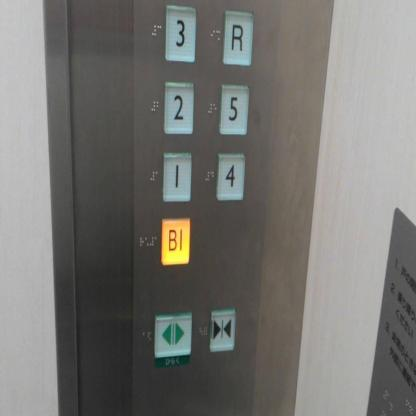1: (161, 149, 193, 203)
2: (162, 78, 195, 136)
3: (164, 0, 197, 66)
4: (215, 150, 246, 203)
5: (218, 81, 250, 137)
B1: (159, 213, 191, 267)
R: (221, 6, 254, 68)
close: (208, 306, 237, 355)
open: (152, 310, 194, 359)
